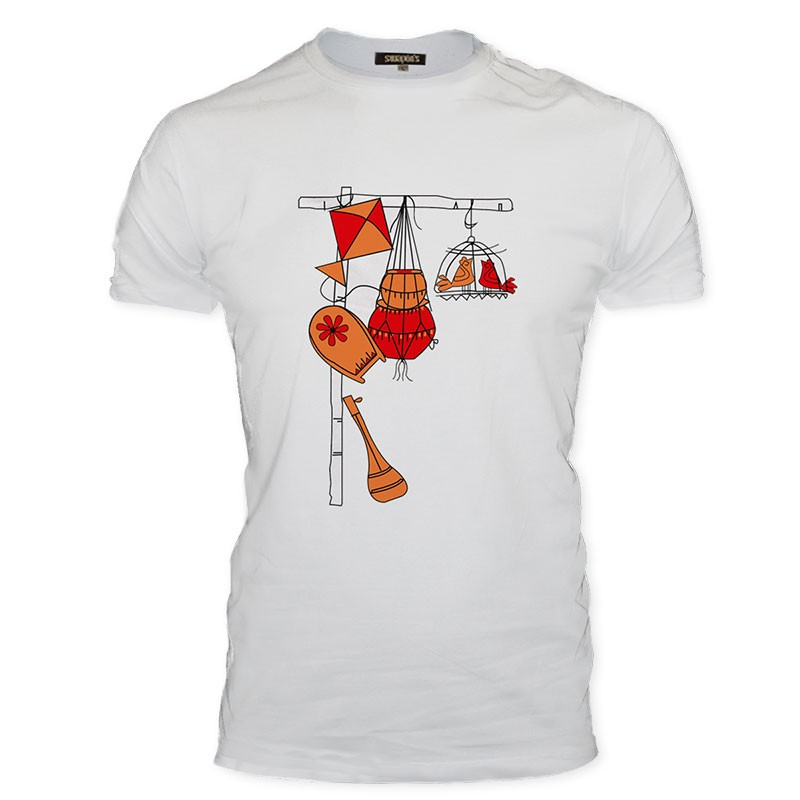T-Shirt: (88, 23, 720, 786)
